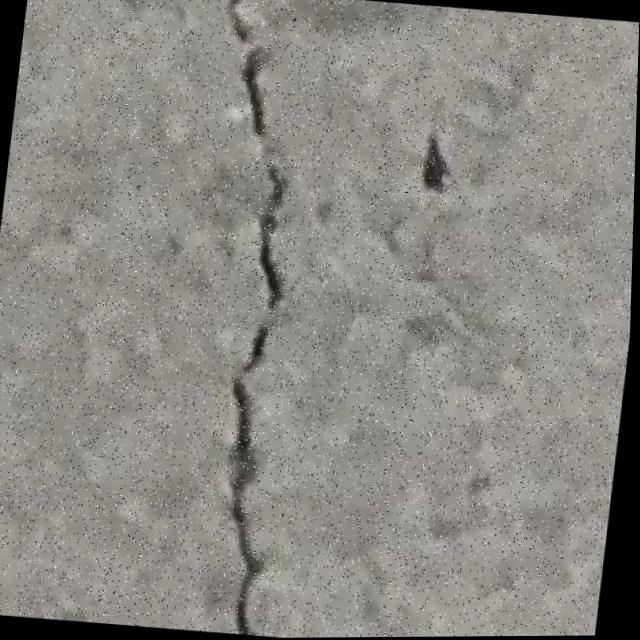Crack: (125, 0, 369, 639)
